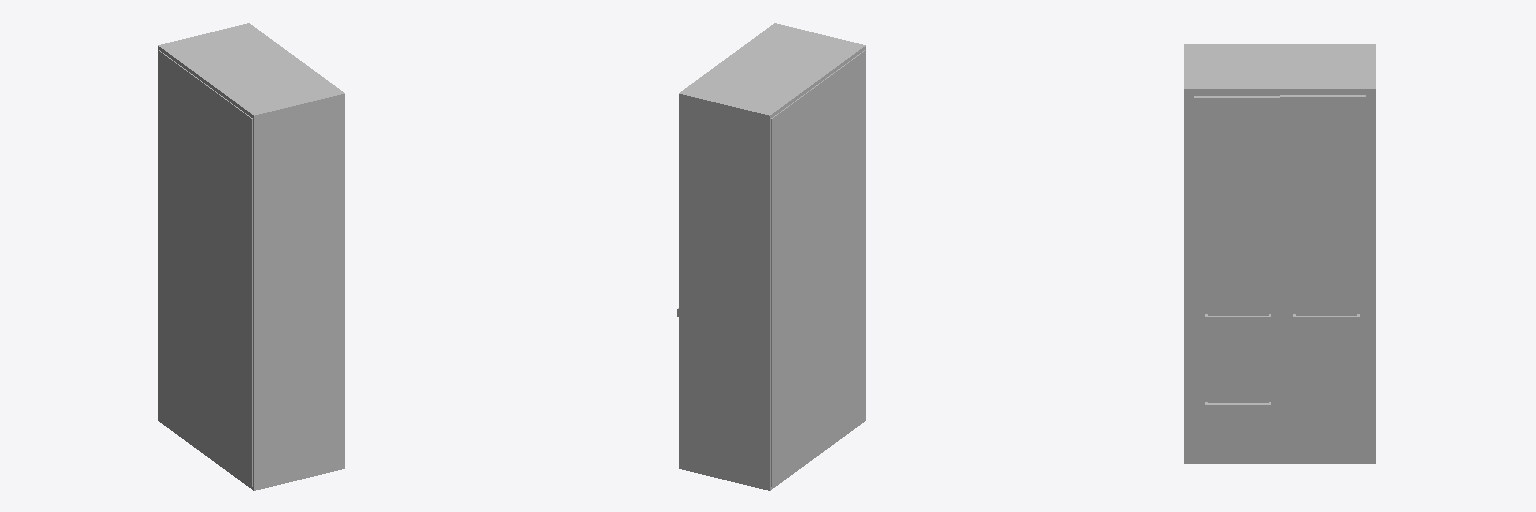
Rendered from wardrobe with glass.obj.
3 views of the same model, side by side, from view 1: azimuth 30°, elevation 25°; view 2: azimuth 150°, elevation 25°; view 3: azimuth 270°, elevation 25° (orthographic).
Parts seen in each view (by area): view 1: Cube; view 2: Cube; view 3: Cube.
Part boxes in pixels (x1,y1,x2,y2): Cube: (158,23,344,490); Cube: (677,23,865,490); Cube: (1184,44,1375,463).
Bounding box in the file's own units: 0.5627 × 1.98 × 0.92.